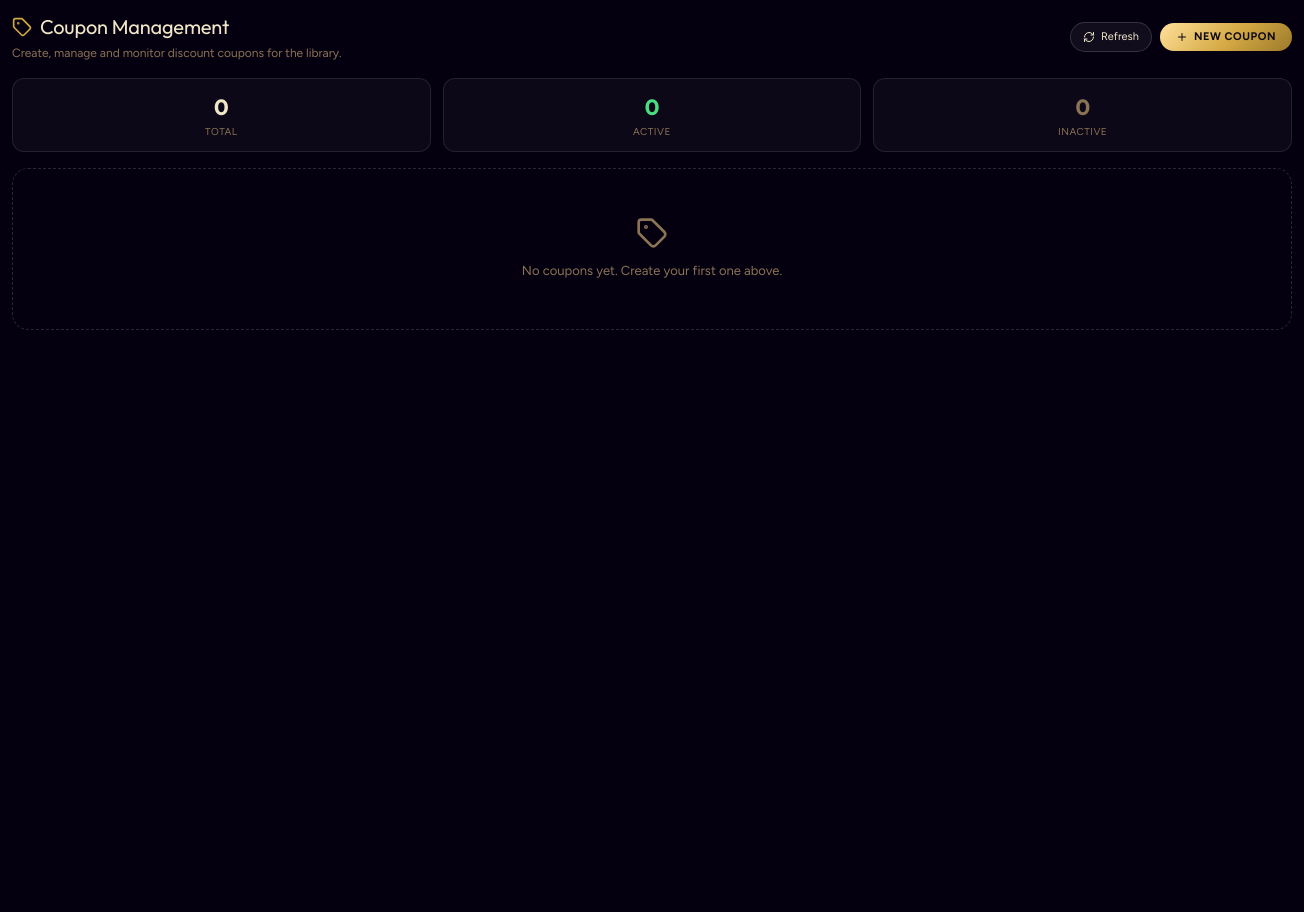
Scenario: Coupon Purpose switch › switching to Live Voice Coach Coupon shows the points-amount field
Click the button "New Coupon". click: [1226, 37]
box: top-left (1160, 23), bottom-right (1292, 51)
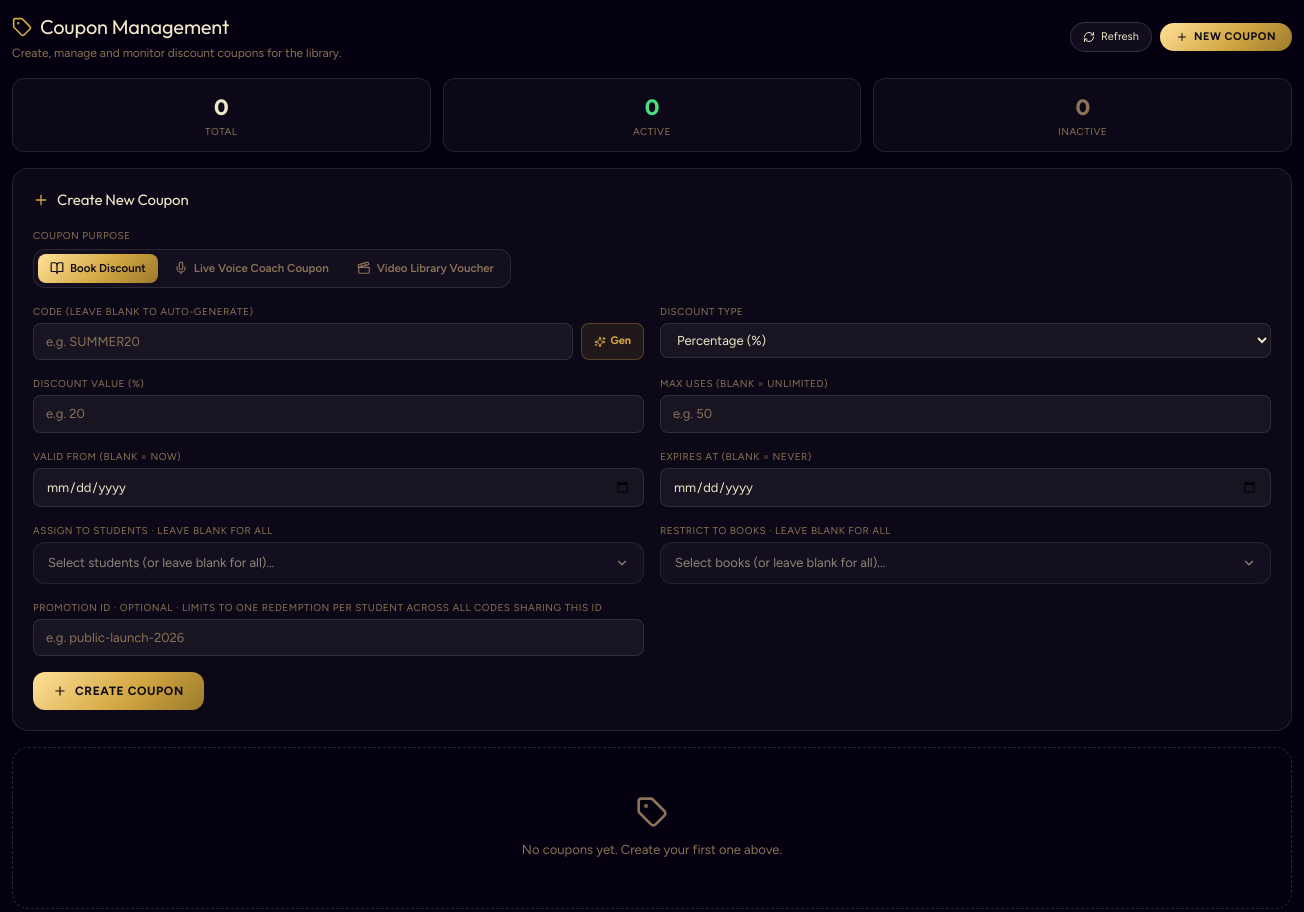
Click the button with test id "coupon-purpose-edutalk_live_coupon". click: [251, 268]
box: top-left (162, 254), bottom-right (341, 283)
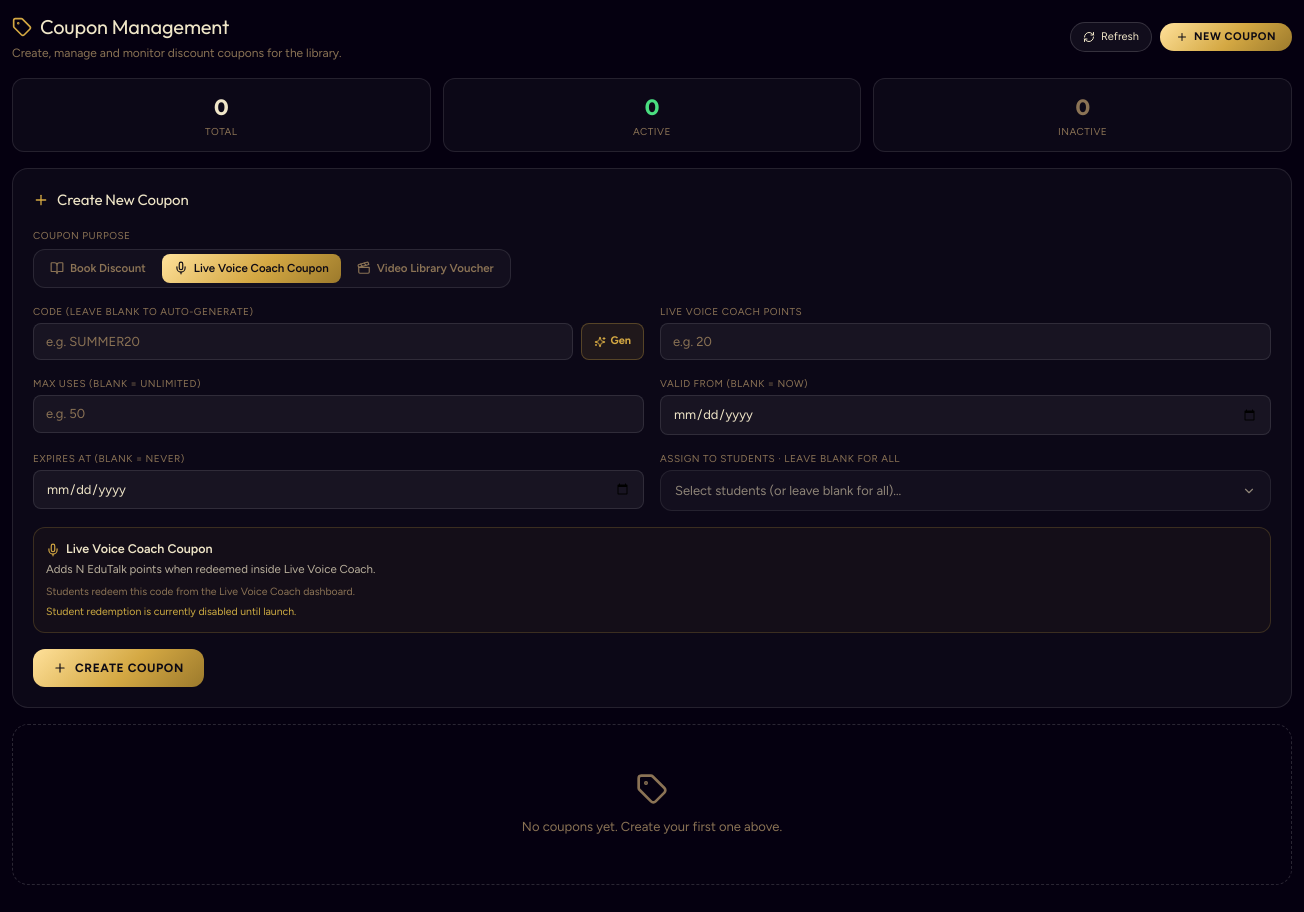
Now the number field with test id "coupon-edutalk-amount" is shown, box top-left (660, 323), bottom-right (1271, 360)
Now the element with test id "coupon-edutalk-preview" is shown, box top-left (33, 527), bottom-right (1271, 633)
